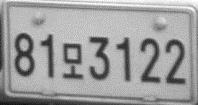1: (116, 36, 132, 83), (40, 33, 55, 79)
2: (164, 37, 187, 85), (139, 37, 162, 84)
3: (88, 35, 110, 80)
8: (13, 32, 35, 78)
모: (60, 42, 84, 81)
